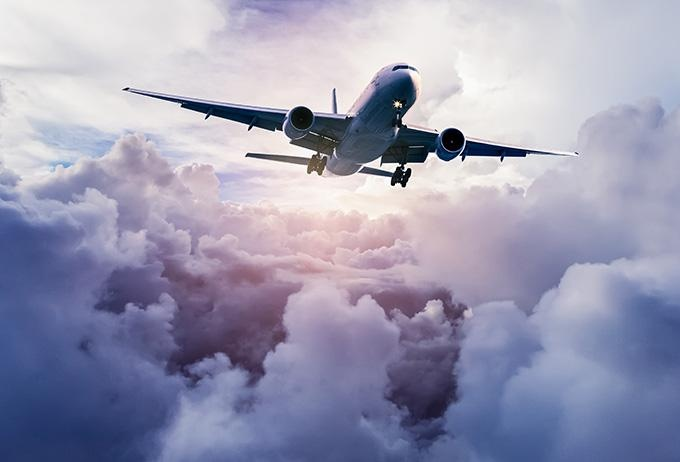airplane: (117, 61, 588, 185)
